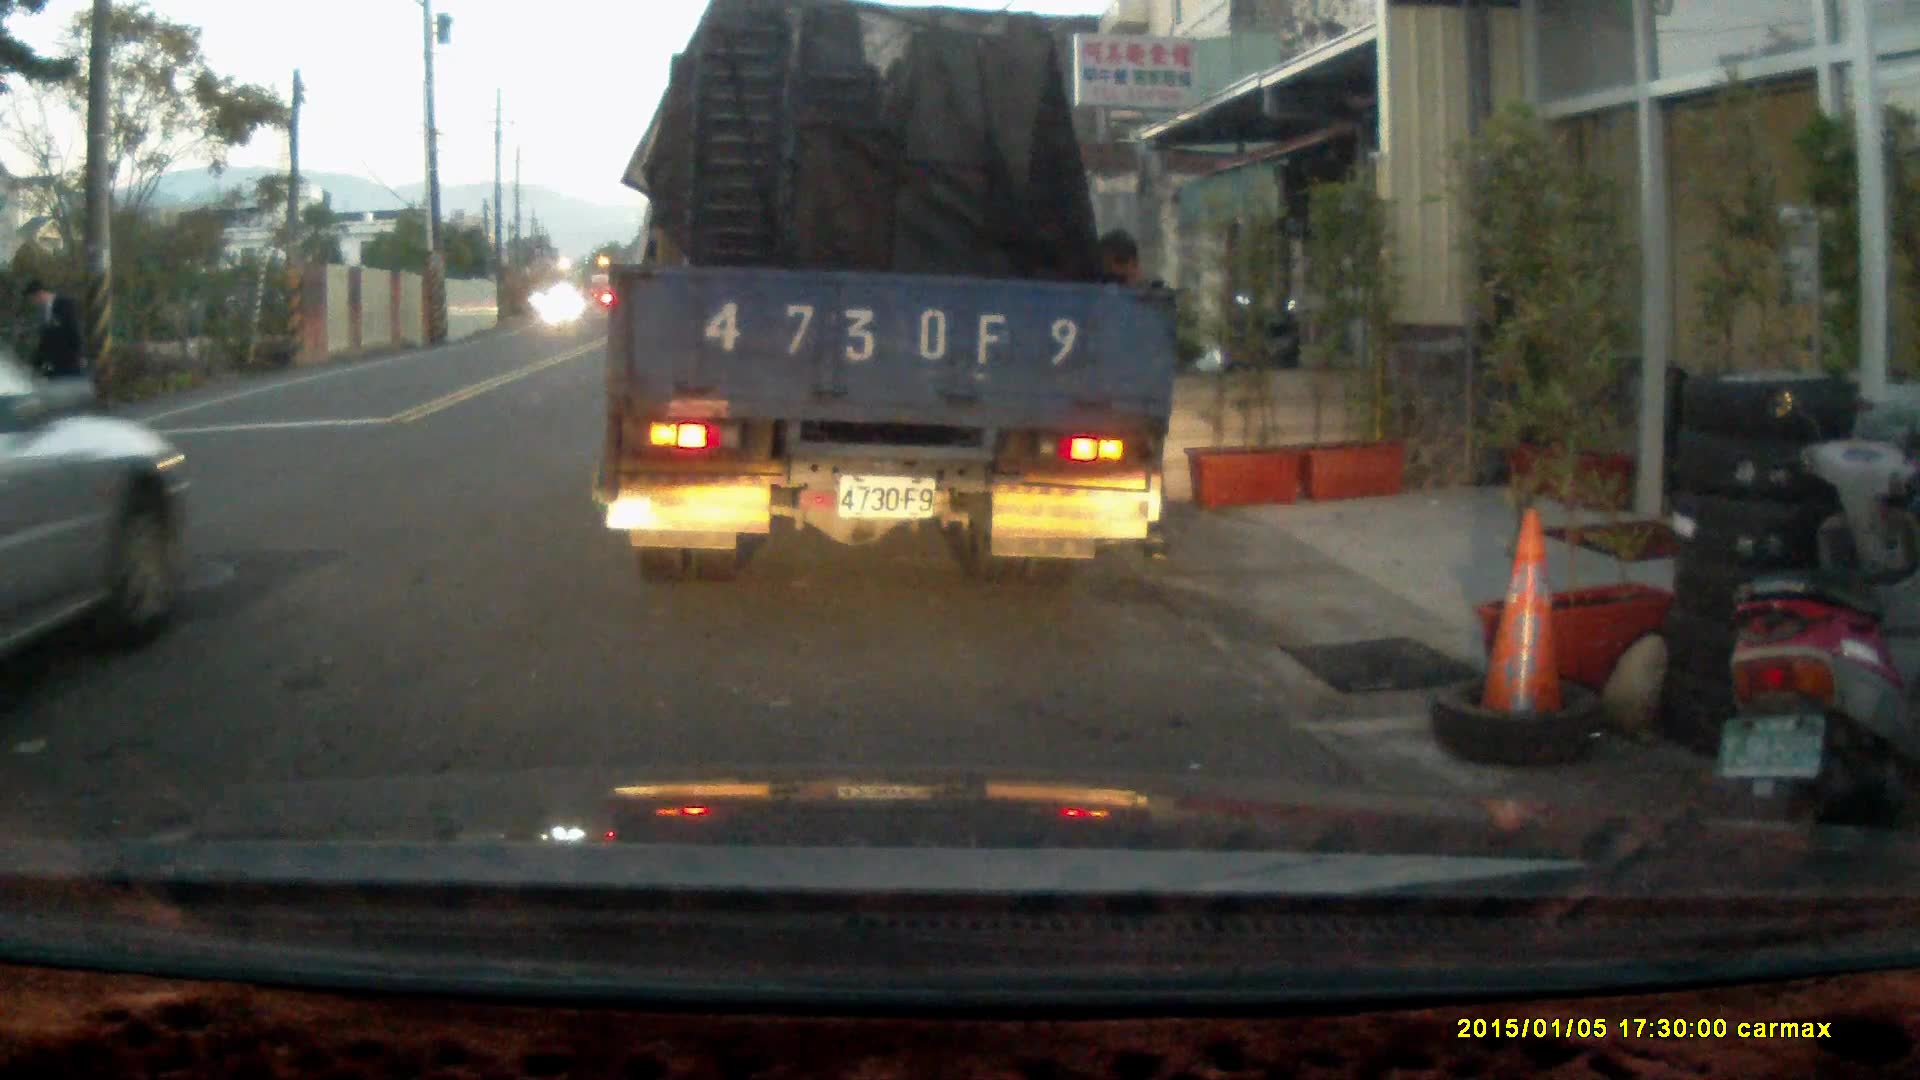pedestrian: (16, 275, 91, 440)
vehicle: (605, 23, 1188, 572), (1, 330, 197, 671)
